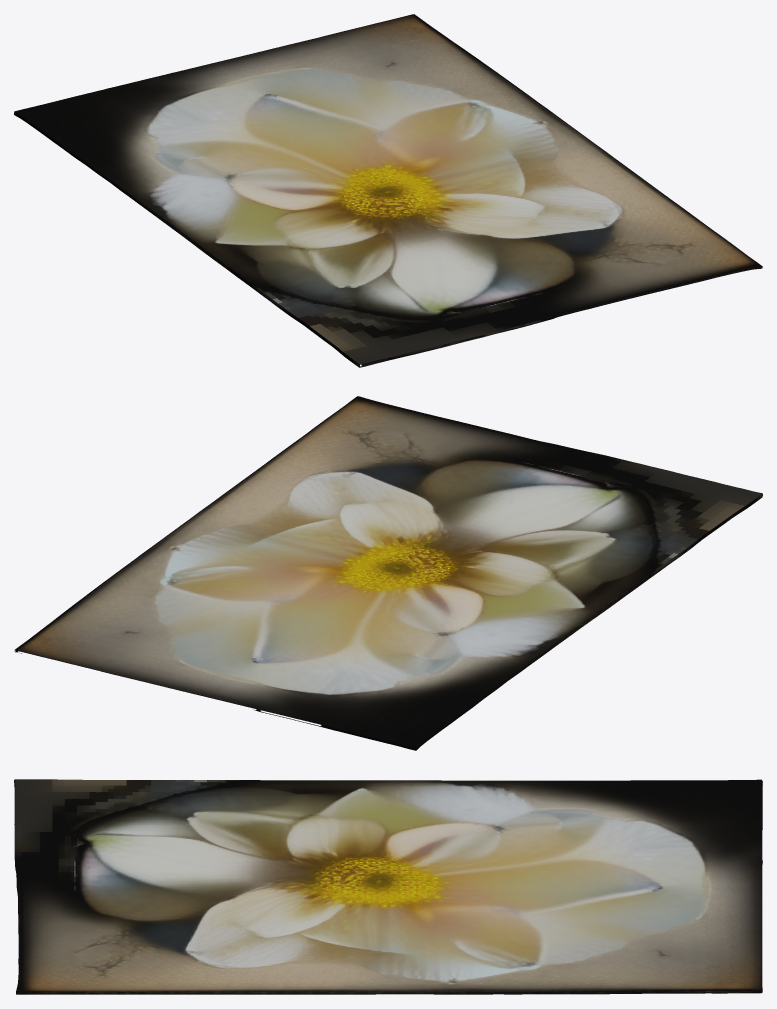
File: pressed-flower-memory-game-vintage.jpeg.glb
The picture shows the model from 3 angles, top to bottom: view 1: azimuth 30°, elevation 25°; view 2: azimuth 150°, elevation 25°; view 3: azimuth 270°, elevation 25°; orthographic projection. The views are drawn at different scales.
Parts seen in each view (by area): view 1: world; view 2: world; view 3: world.
Boxes of the visible parts, x1=… form: world: x1=14, y1=14, x2=762, y2=367; world: x1=14, y1=396, x2=762, y2=750; world: x1=14, y1=779, x2=762, y2=994.
Bounding box in the file's own units: 0.6732 × 0.00829 × 1.
1 material, 1 textured.
